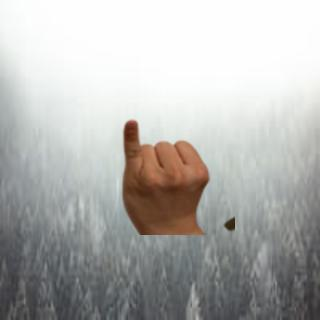FINE: (117, 117, 214, 235)
